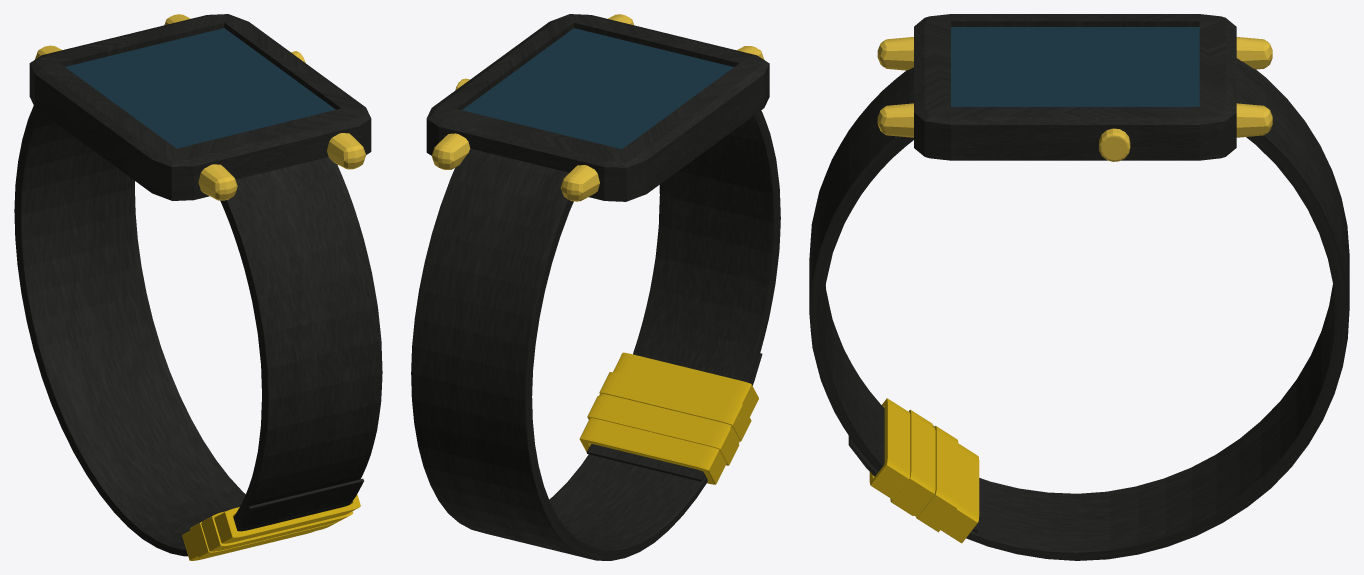
Rendered from watch_V1.fbx.
3 renders of one model, left to right at view 1: azimuth 30°, elevation 25°; view 2: azimuth 150°, elevation 25°; view 3: azimuth 270°, elevation 25°, orthographic. The views are drawn at different scales.
Parts seen in each view (by area): view 1: Cube.008; view 2: Cube.008; view 3: Cube.008.
Part boxes in pixels (<box>): Cube.008: <box>14,14,382,560</box>; Cube.008: <box>411,14,780,560</box>; Cube.008: <box>809,14,1349,560</box>.
Size of the model in its own units: 42.1 by 78.64 by 82.35.
Materials: 4 (3 with a texture image).
